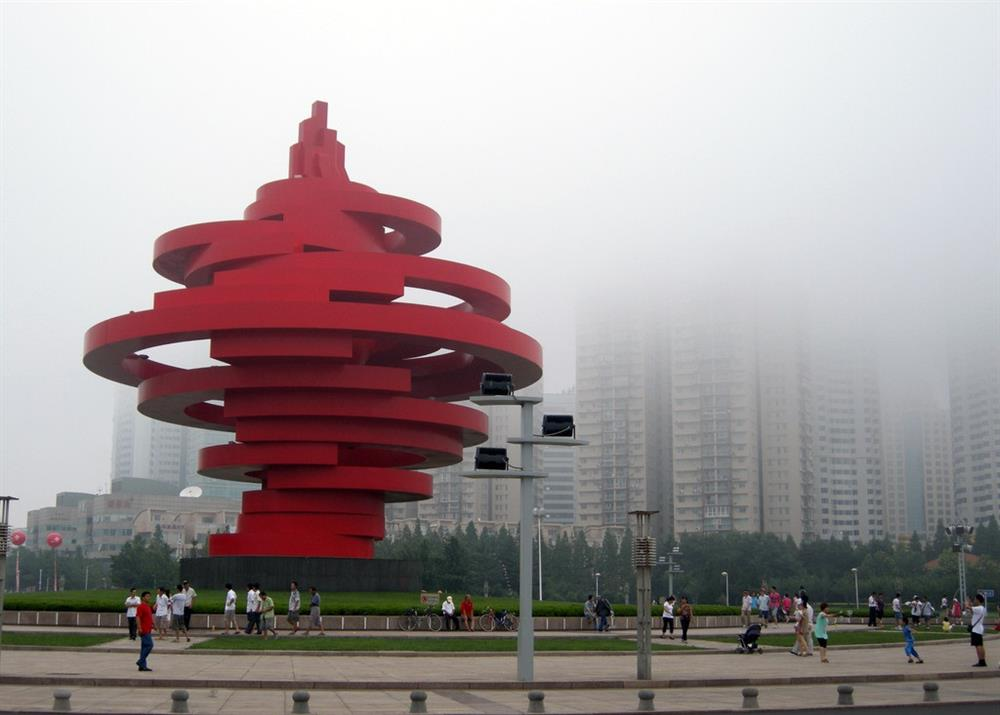may_wind: (96, 99, 552, 570)
